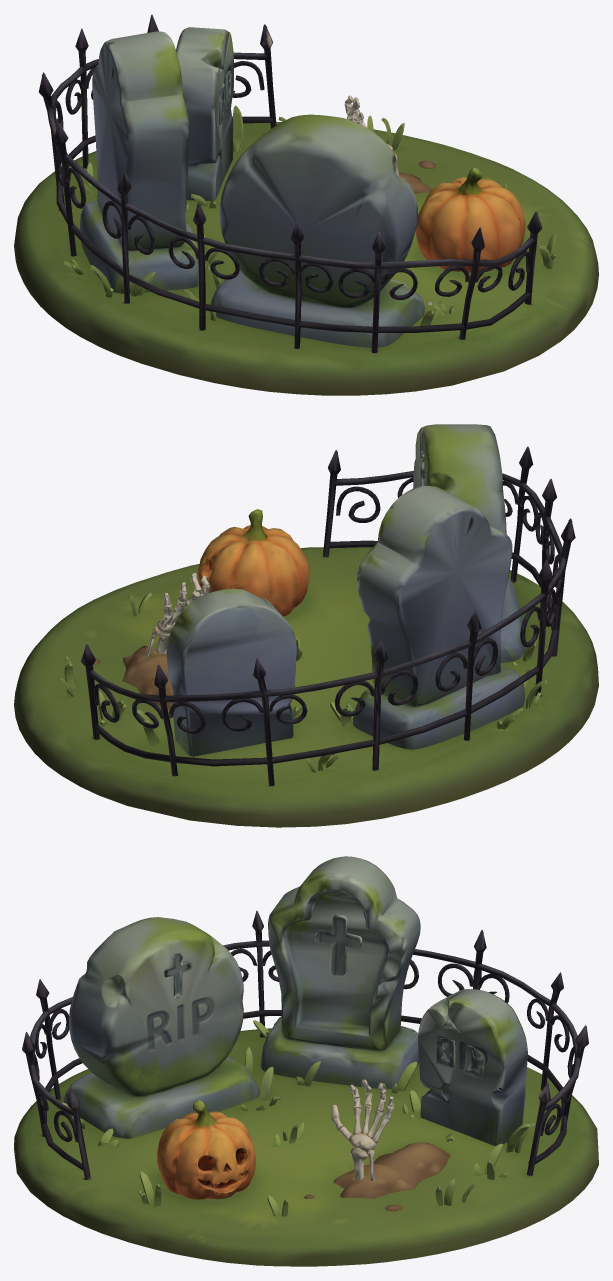
The model's file is H3_GraveyardSet_LOD0.fbx.
The picture shows the model from 3 angles, top to bottom: view 1: azimuth 30°, elevation 25°; view 2: azimuth 150°, elevation 25°; view 3: azimuth 270°, elevation 25°; orthographic projection. The views are drawn at different scales.
Visible parts, largest first — view 1: H3_GraveyardSet_LOD0; view 2: H3_GraveyardSet_LOD0; view 3: H3_GraveyardSet_LOD0.
Boxes of the visible parts, box(x1,y1,x2,y2) form: H3_GraveyardSet_LOD0: box(14, 14, 598, 395); H3_GraveyardSet_LOD0: box(14, 424, 598, 827); H3_GraveyardSet_LOD0: box(14, 856, 598, 1266).
Bounding box in the file's own units: 2.29 × 1.1 × 2.56.
1 material, 1 textured.
